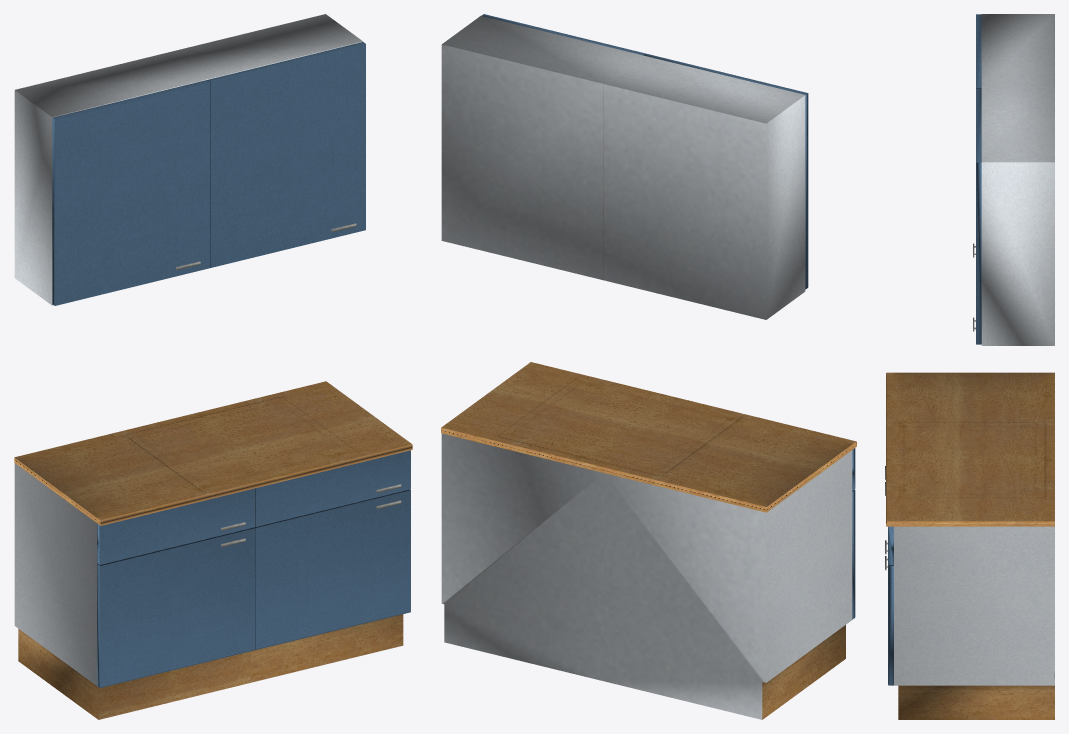
The model's file is kuechenelemente.fbx.
3 views of the same model, side by side, from view 1: azimuth 30°, elevation 25°; view 2: azimuth 150°, elevation 25°; view 3: azimuth 270°, elevation 25° (orthographic). The views are drawn at different scales.
Parts seen in each view (by area): view 1: Mesh, Mesh_ncl1_1; view 2: Mesh, Mesh_ncl1_1; view 3: Mesh, Mesh_ncl1_1.
Boxes of the visible parts, x1,y1,x2,y2 form: Mesh: (14, 381, 412, 719); Mesh_ncl1_1: (14, 14, 365, 305); Mesh: (441, 362, 856, 719); Mesh_ncl1_1: (441, 14, 808, 319); Mesh: (885, 372, 1054, 719); Mesh_ncl1_1: (973, 14, 1054, 345).
Size of the model in its own units: 120 by 211 by 58.05.
